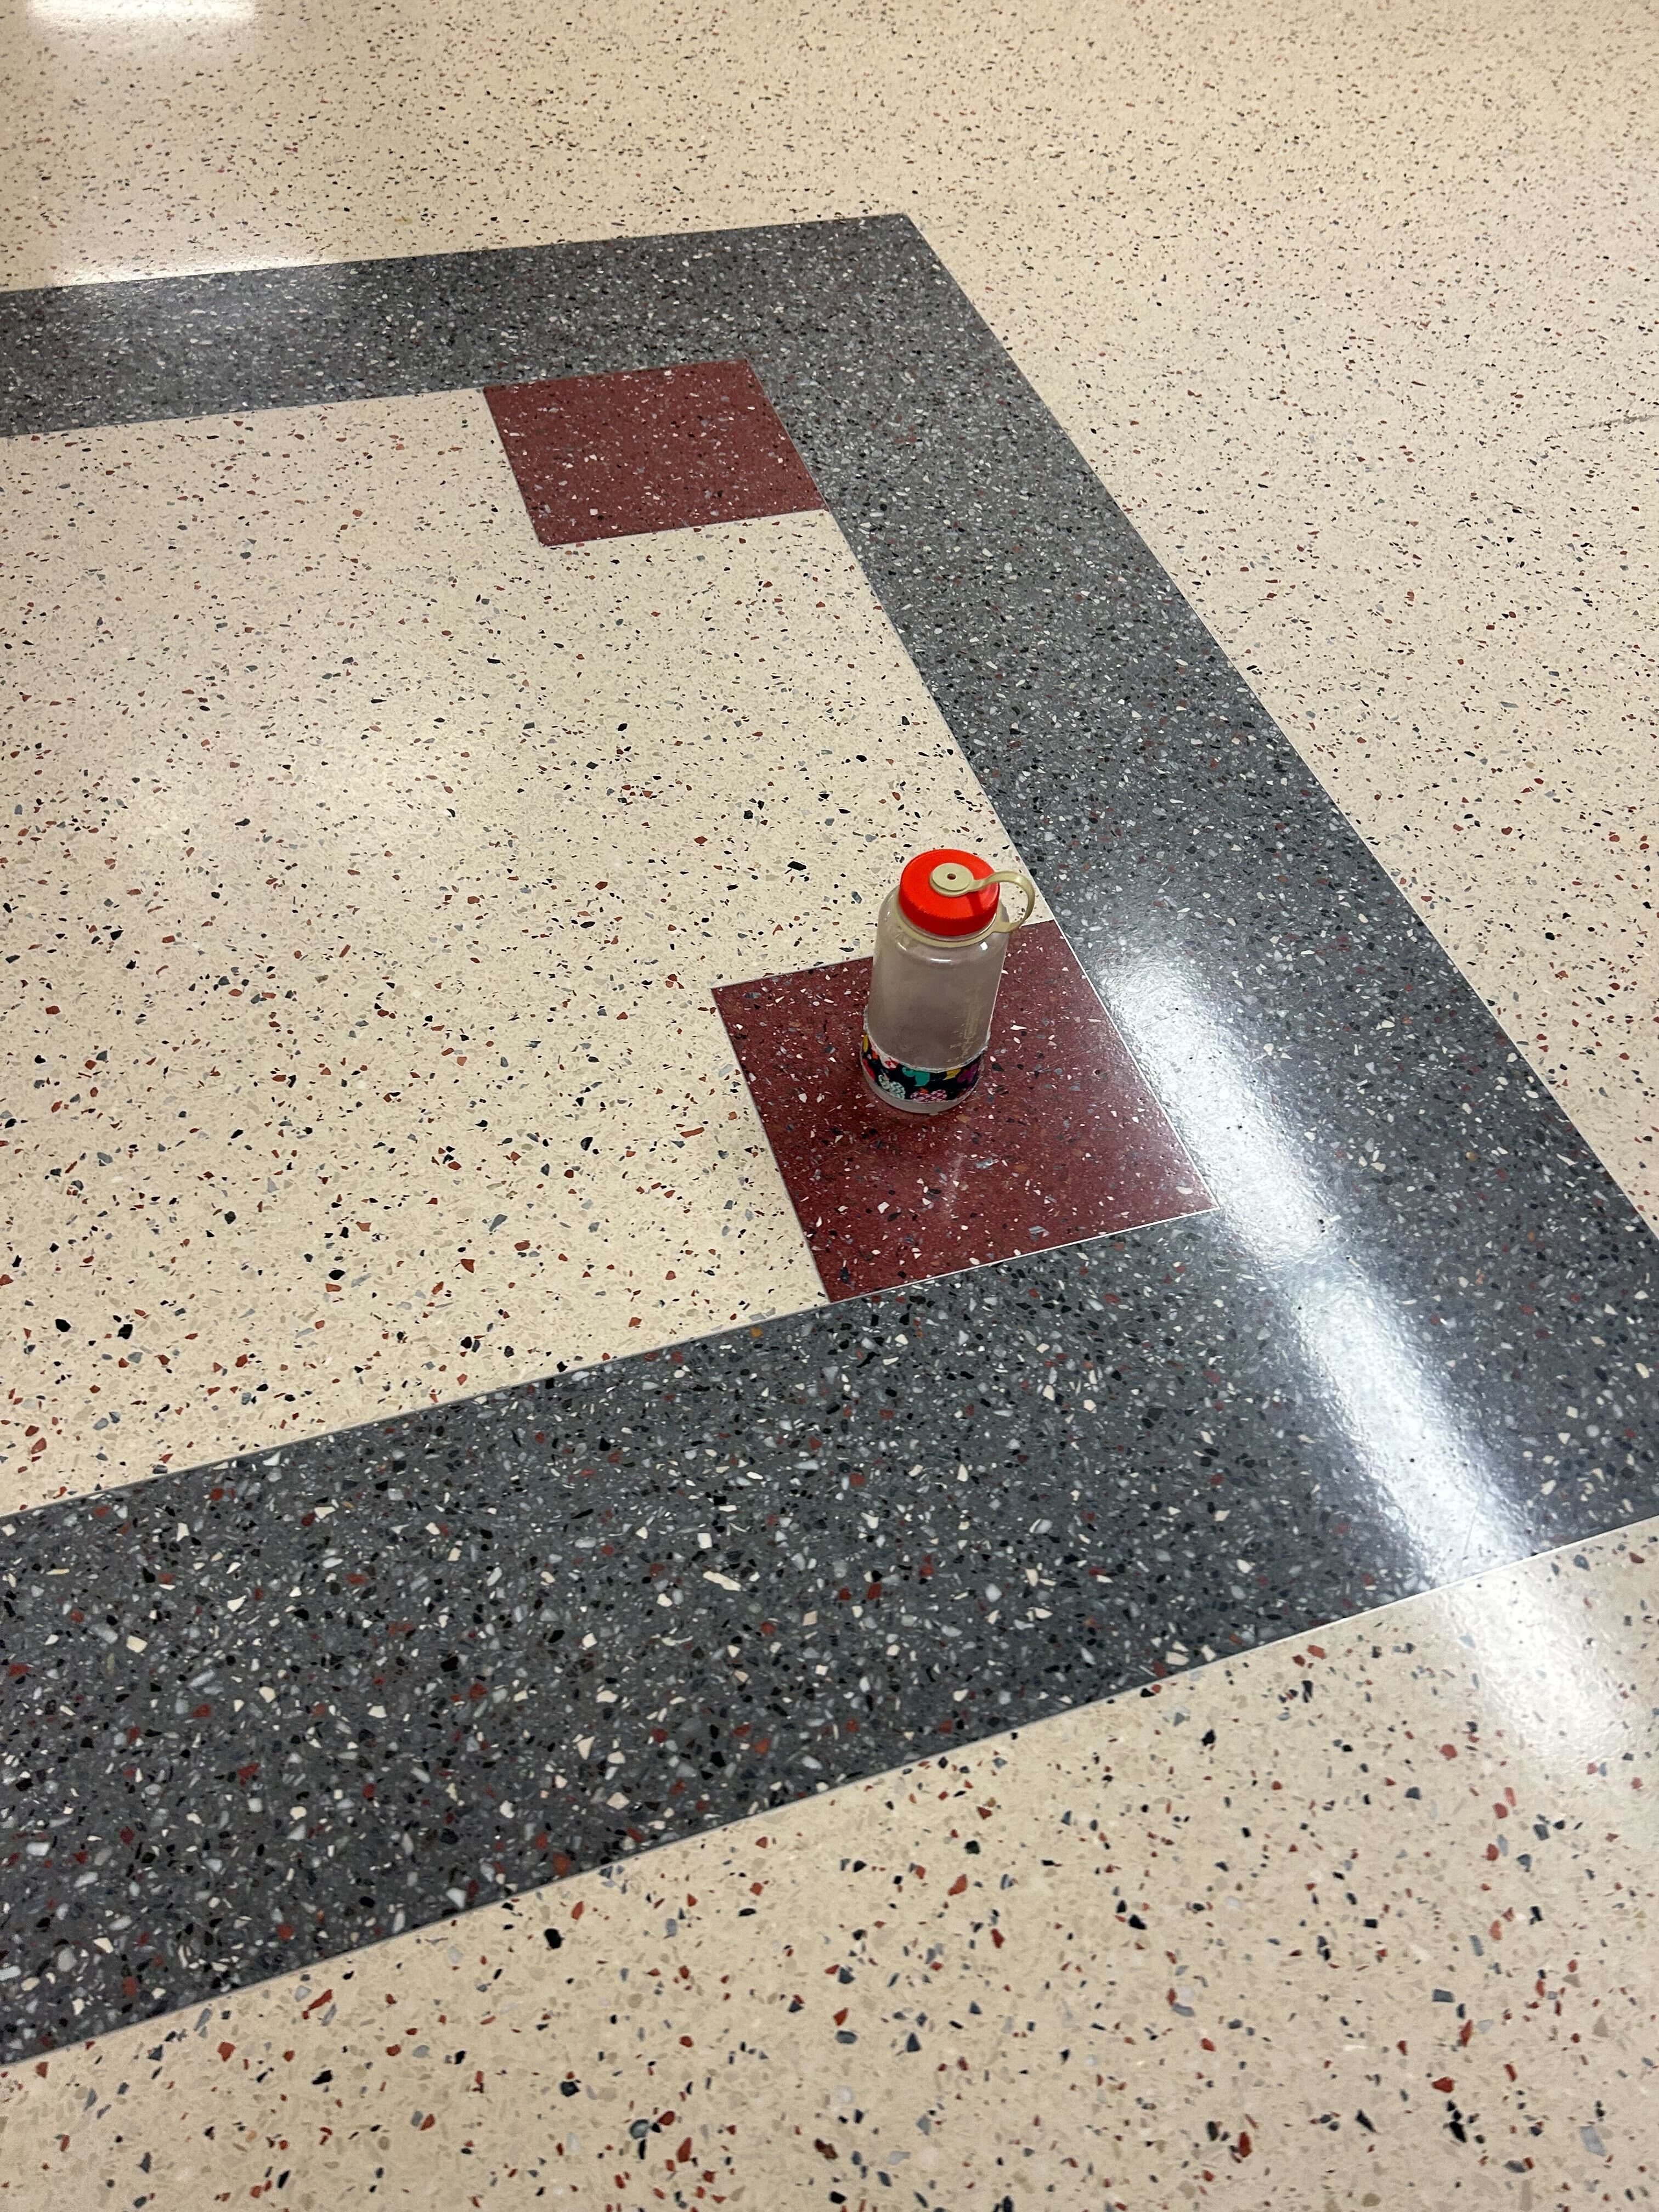bottle: (856, 836, 1037, 1127)
